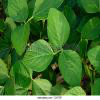Soyabean leaf: (22, 39, 54, 72), (58, 49, 82, 93), (47, 7, 70, 51)
